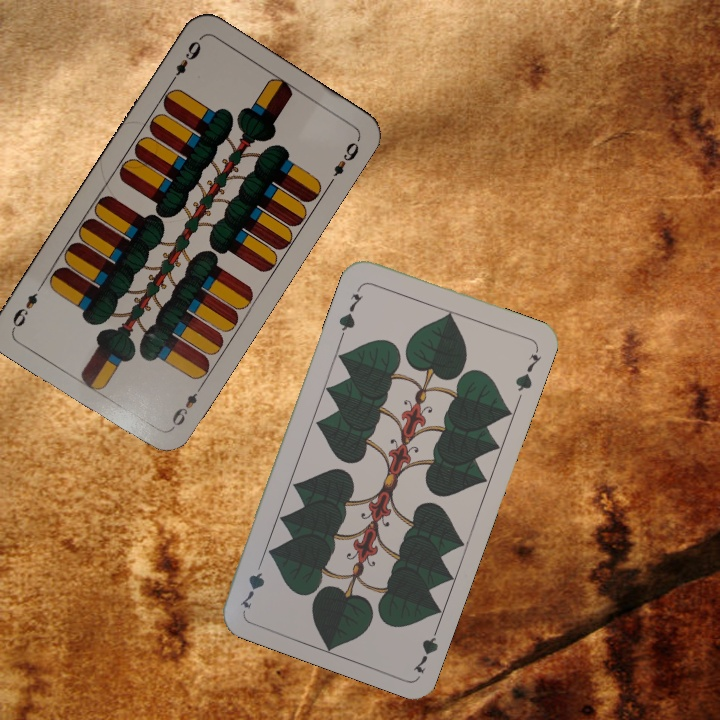E9: (167, 380, 206, 432), (166, 34, 204, 87)
G7: (409, 619, 443, 676), (334, 282, 365, 339)
